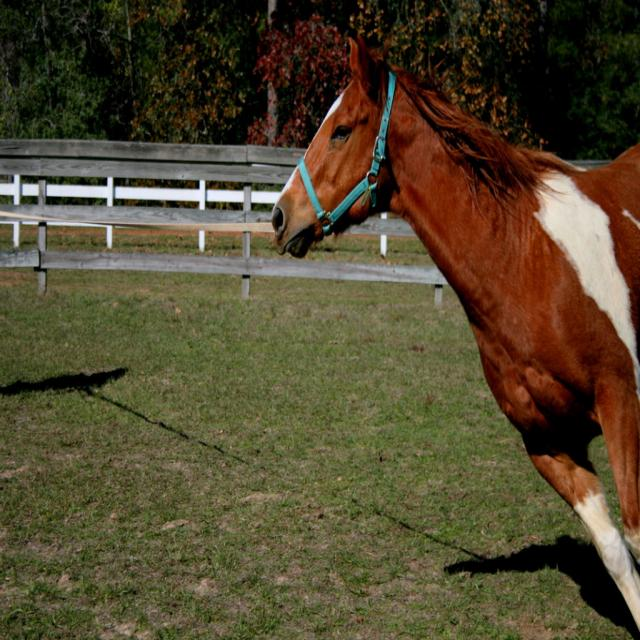Horse: (271, 29, 640, 632)
